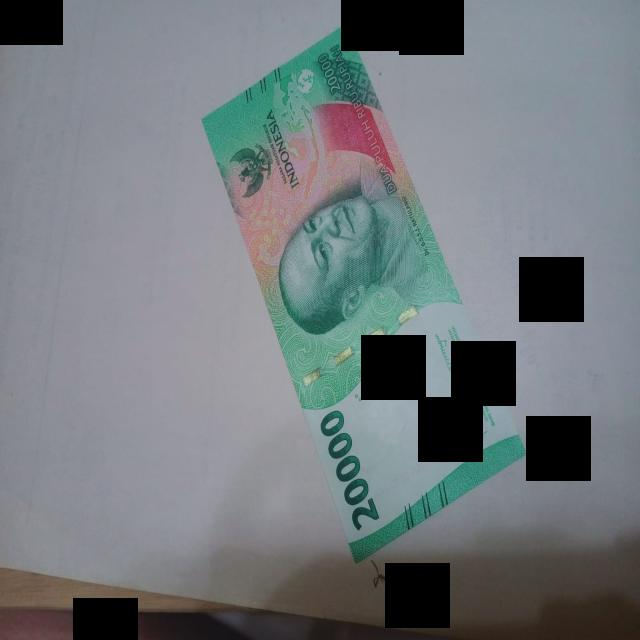dua puluh ribu rupiah: (204, 25, 525, 562)
